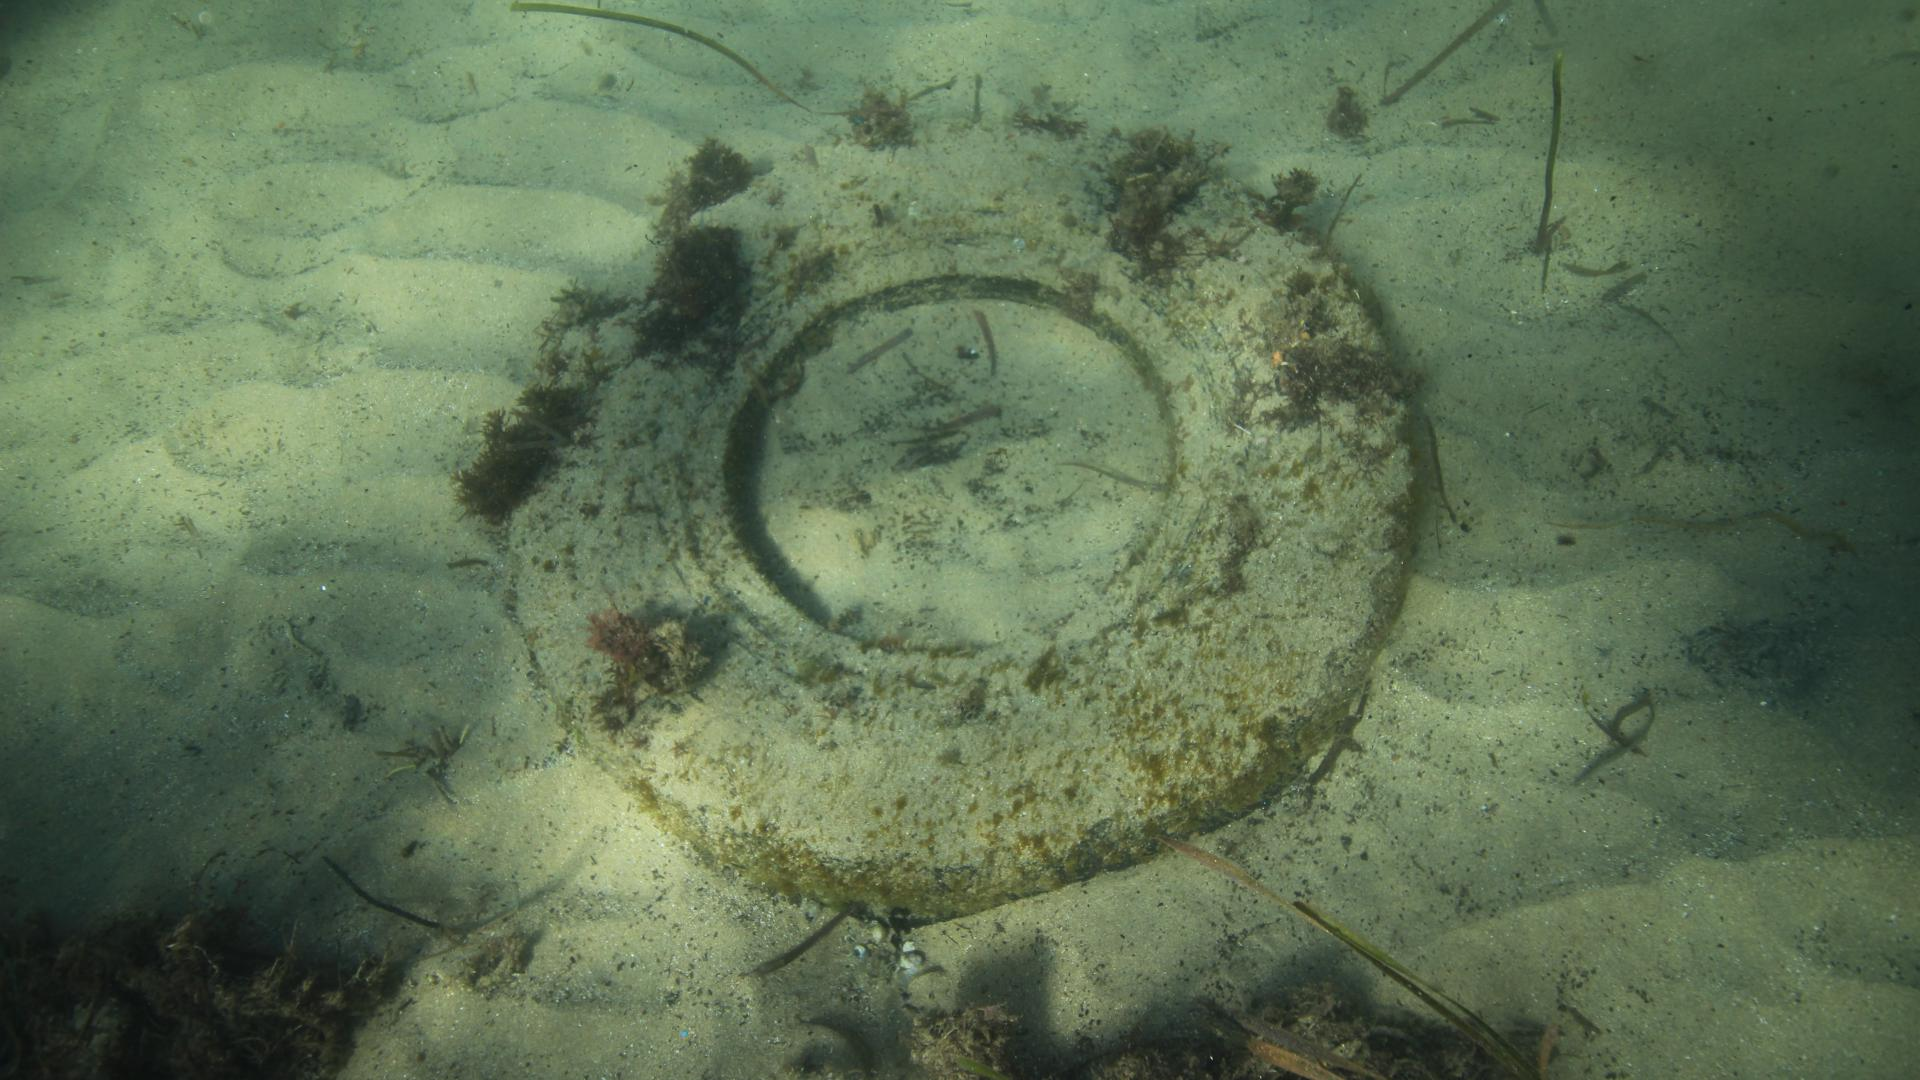tire: (506, 117, 1420, 928)
